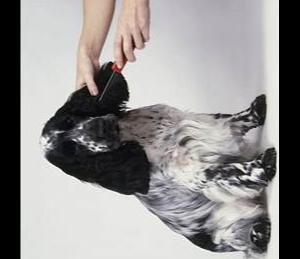dog: (37, 59, 276, 259)
